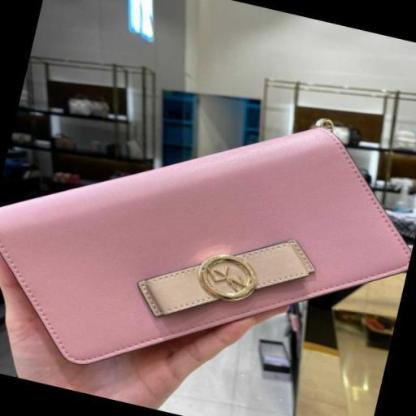bag: (2, 120, 416, 375)
